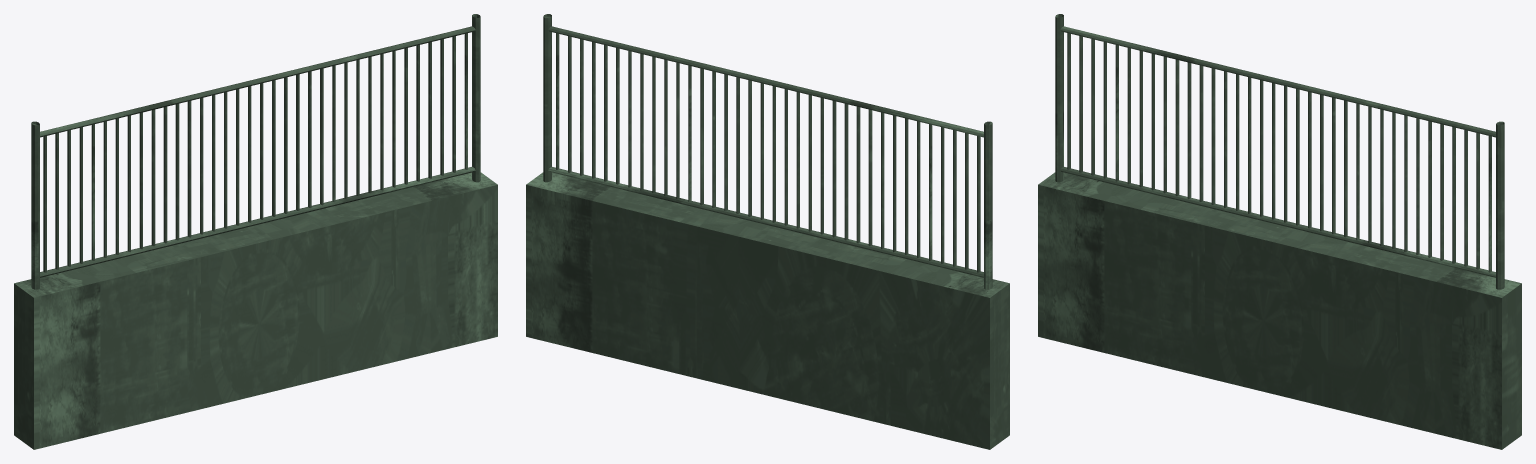
Rendered from concretefence.obj.
3 views of the same model, side by side, from view 1: azimuth 30°, elevation 25°; view 2: azimuth 150°, elevation 25°; view 3: azimuth 330°, elevation 25° (orthographic).
Visible parts, largest first — view 1: Fence; view 2: Fence; view 3: Fence.
Part boxes in pixels (<box>): Fence: <box>14,14,497,449</box>; Fence: <box>526,14,1009,449</box>; Fence: <box>1038,14,1521,449</box>.
Size of the model in its own units: 3 by 1.95 by 0.224.
